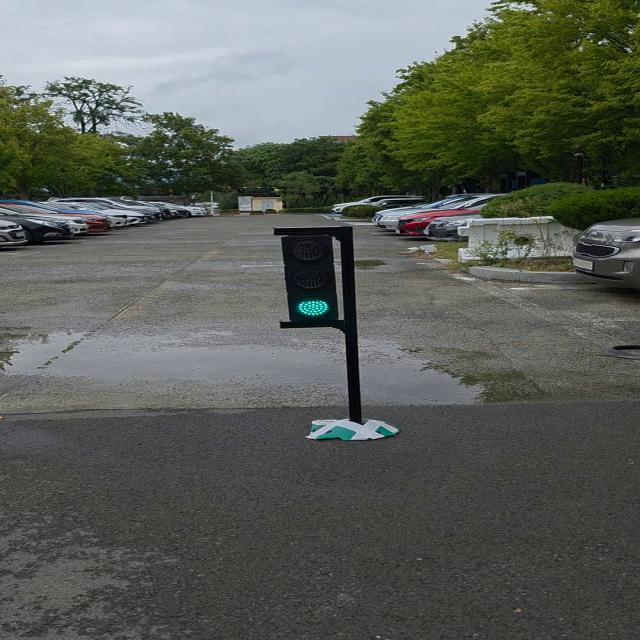green: (279, 228, 354, 330)
